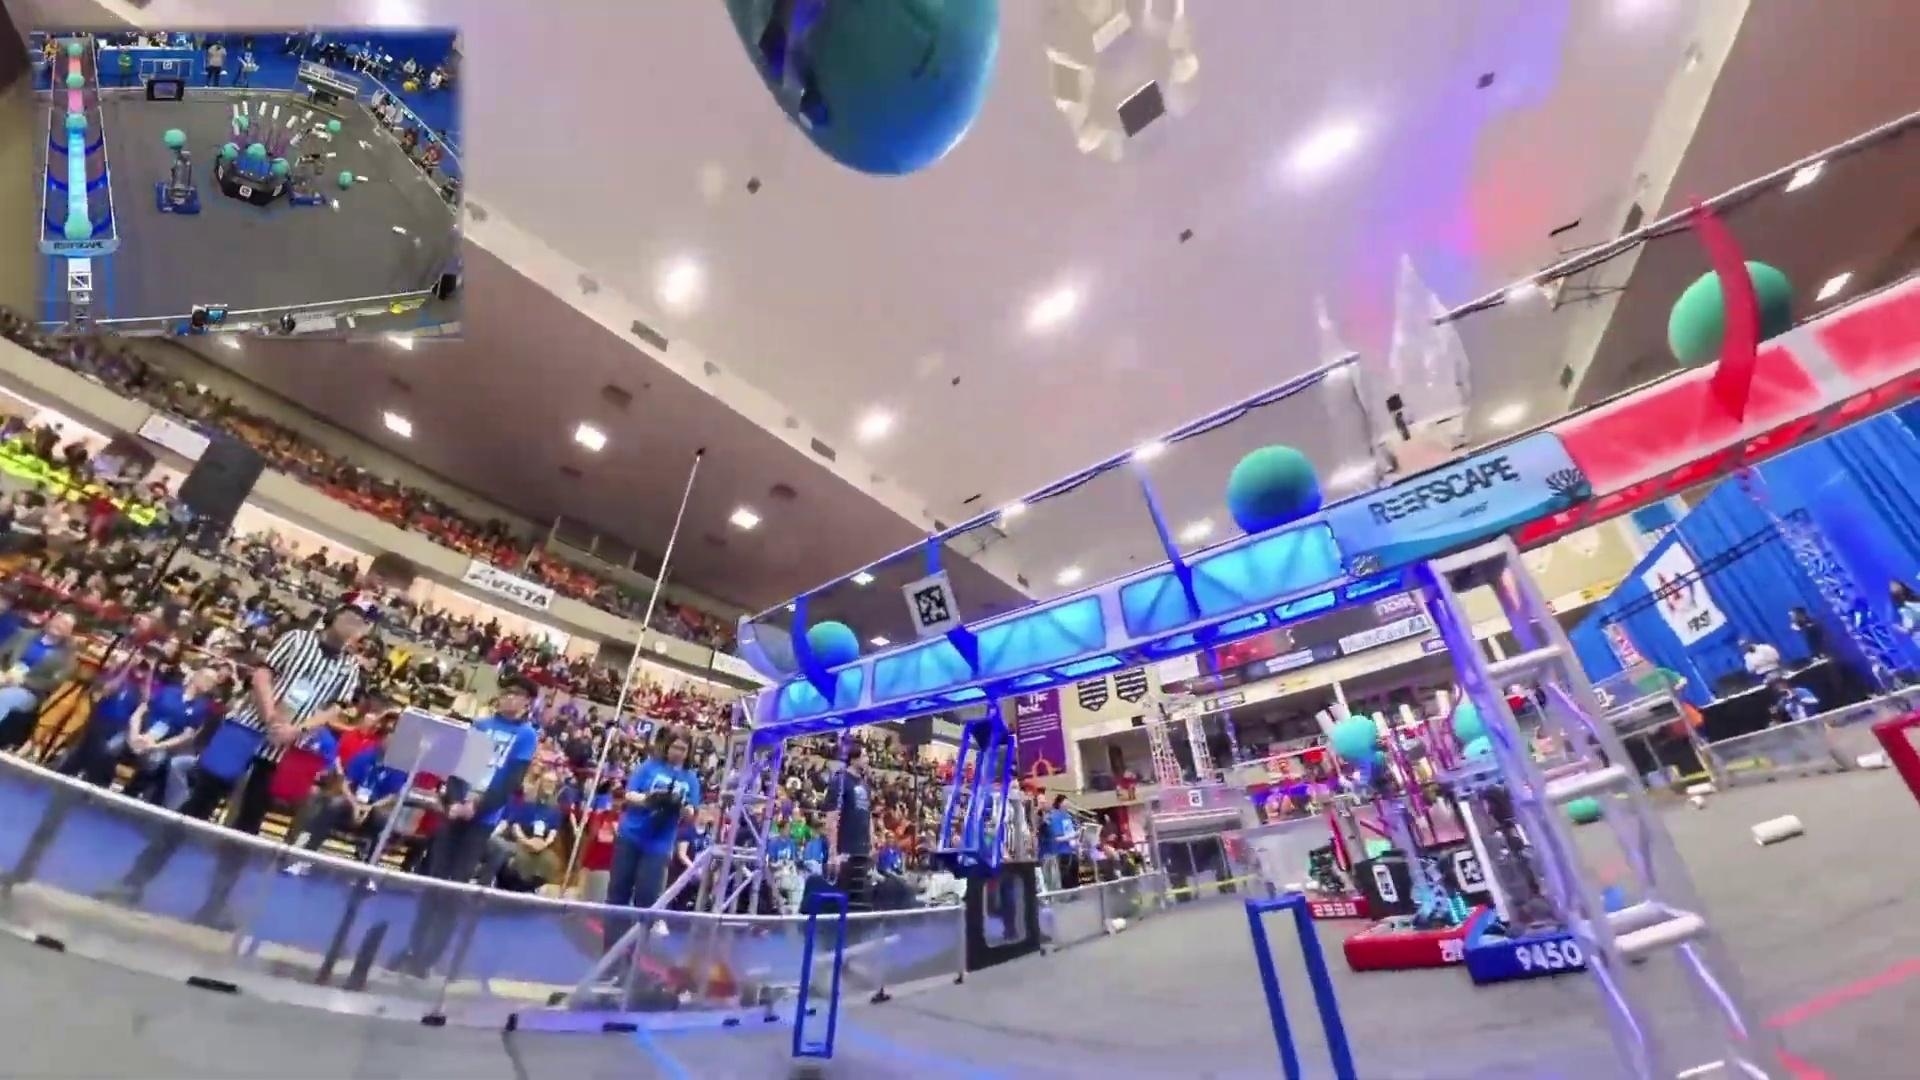robot: (1465, 764, 1629, 988), (1340, 771, 1477, 973), (1305, 840, 1370, 920), (157, 135, 203, 215), (286, 152, 328, 208)
